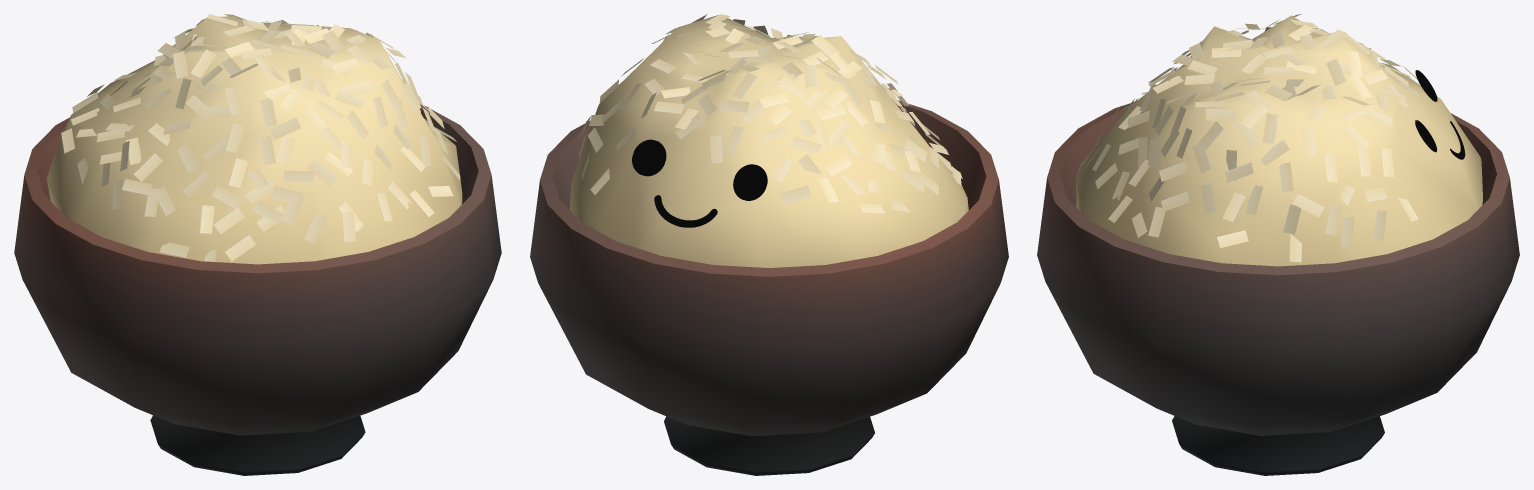
Rendered from plate_rise_smile.fbx.
The picture shows the model from 3 angles, left to right: view 1: azimuth 30°, elevation 25°; view 2: azimuth 150°, elevation 25°; view 3: azimuth 270°, elevation 25°; orthographic projection.
Parts seen in each view (by area): view 1: plate_rise_smile; view 2: plate_rise_smile; view 3: plate_rise_smile.
Part boxes in pixels (x1,y1,x2,y2): plate_rise_smile: (14, 14, 501, 475); plate_rise_smile: (530, 14, 1008, 475); plate_rise_smile: (1037, 14, 1519, 475).
Size of the model in its own units: 80.51 by 80.51 by 72.33.
